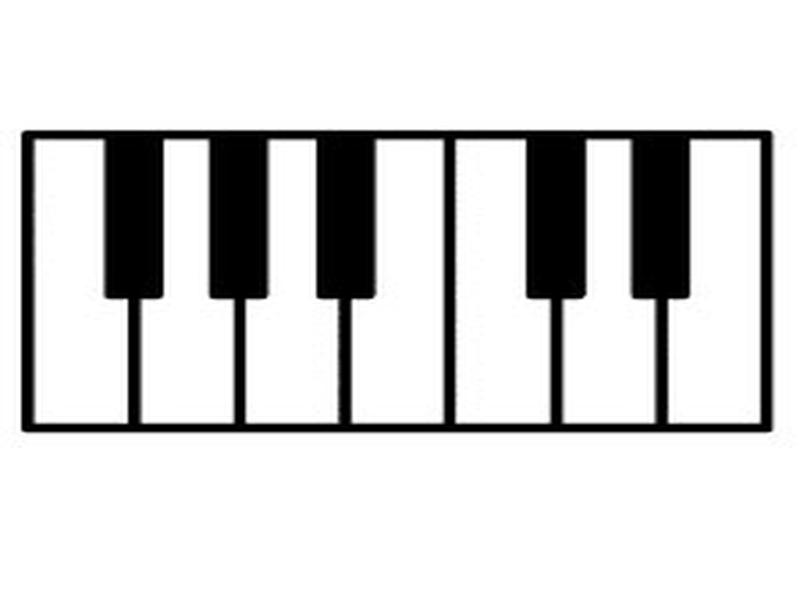piano: (20, 128, 775, 435)
